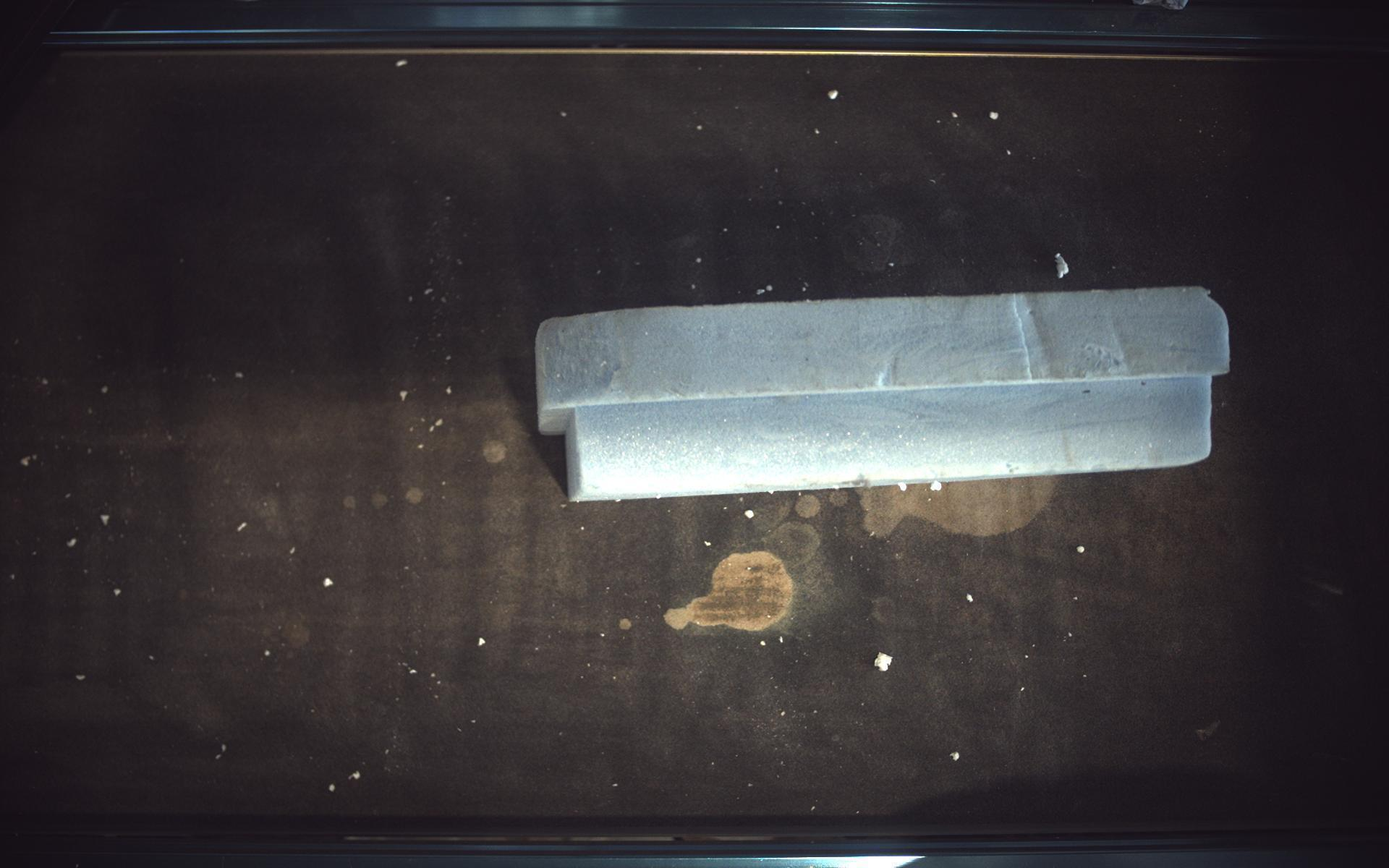foam: (536, 286, 1232, 501)
